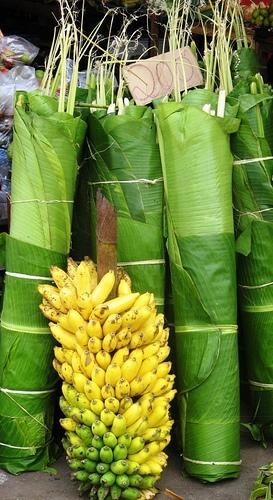banana: (91, 268, 115, 310), (50, 264, 78, 296), (103, 292, 140, 315), (48, 322, 76, 351), (141, 319, 164, 349), (130, 308, 156, 334), (132, 324, 160, 347), (81, 349, 102, 379), (76, 260, 92, 298), (135, 354, 160, 378), (44, 290, 68, 314), (71, 350, 90, 380), (138, 368, 158, 396), (116, 310, 138, 334), (125, 416, 149, 438), (88, 304, 110, 328), (121, 402, 142, 427), (67, 308, 88, 333), (38, 304, 64, 324), (132, 306, 152, 332), (84, 256, 97, 294), (76, 292, 93, 321), (127, 347, 143, 377), (109, 346, 130, 368), (129, 290, 151, 311), (102, 314, 122, 337), (105, 363, 121, 391), (128, 474, 156, 490), (120, 358, 137, 384), (84, 380, 104, 402), (79, 408, 101, 428), (56, 312, 76, 334), (142, 340, 162, 362), (148, 405, 167, 428), (149, 377, 170, 397), (60, 285, 76, 311), (115, 326, 132, 350), (72, 372, 90, 394), (75, 326, 90, 351), (127, 448, 150, 464), (110, 414, 126, 437), (75, 392, 93, 412), (92, 420, 110, 440), (115, 378, 130, 402), (154, 380, 175, 397), (140, 428, 162, 444), (66, 257, 78, 286), (142, 441, 160, 460), (88, 320, 105, 340), (36, 284, 60, 298), (96, 350, 111, 372), (92, 367, 106, 390), (144, 460, 164, 476), (128, 377, 143, 398), (102, 332, 117, 353), (140, 396, 154, 418), (80, 425, 94, 447), (120, 486, 142, 500), (100, 408, 116, 427), (81, 458, 101, 473), (66, 431, 86, 446), (66, 386, 79, 409), (59, 395, 72, 418), (127, 437, 144, 454), (128, 332, 144, 350), (104, 396, 120, 414), (155, 346, 171, 364), (117, 397, 133, 415), (72, 444, 90, 460), (90, 399, 106, 417), (110, 459, 128, 475), (152, 412, 170, 428), (87, 336, 103, 354), (118, 270, 132, 290), (62, 381, 73, 406), (124, 459, 141, 475), (117, 279, 132, 297), (113, 443, 128, 461), (62, 362, 74, 384), (100, 471, 116, 487), (67, 406, 82, 423), (100, 446, 114, 464), (59, 418, 77, 432), (150, 454, 168, 468), (101, 384, 116, 400), (134, 392, 154, 404), (42, 296, 58, 311), (104, 432, 118, 449), (116, 472, 130, 489), (53, 345, 66, 363), (67, 458, 85, 471), (61, 348, 73, 367), (73, 470, 92, 482), (86, 446, 100, 462), (87, 472, 104, 485), (117, 434, 132, 448), (137, 462, 152, 476), (127, 473, 143, 486), (157, 363, 170, 379), (154, 396, 170, 409), (92, 435, 105, 451), (162, 389, 178, 401), (152, 430, 168, 442), (77, 480, 93, 492), (110, 484, 121, 500), (159, 361, 172, 374), (96, 462, 110, 474), (98, 485, 110, 499), (132, 488, 146, 499), (117, 266, 124, 288), (61, 438, 72, 451), (91, 484, 102, 497), (157, 439, 167, 453), (155, 426, 172, 434), (76, 341, 84, 358), (67, 446, 76, 460), (57, 363, 64, 380), (52, 358, 60, 372), (76, 423, 83, 439), (160, 420, 175, 427), (88, 490, 98, 500), (140, 490, 150, 500), (162, 328, 169, 342), (164, 434, 171, 447), (164, 374, 176, 381), (66, 432, 72, 444), (148, 300, 157, 308), (149, 293, 154, 305), (162, 454, 168, 459)
